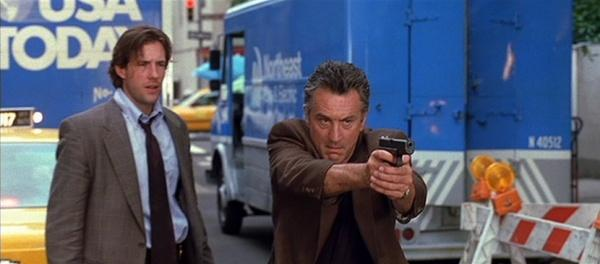Gun: (376, 136, 415, 170)
